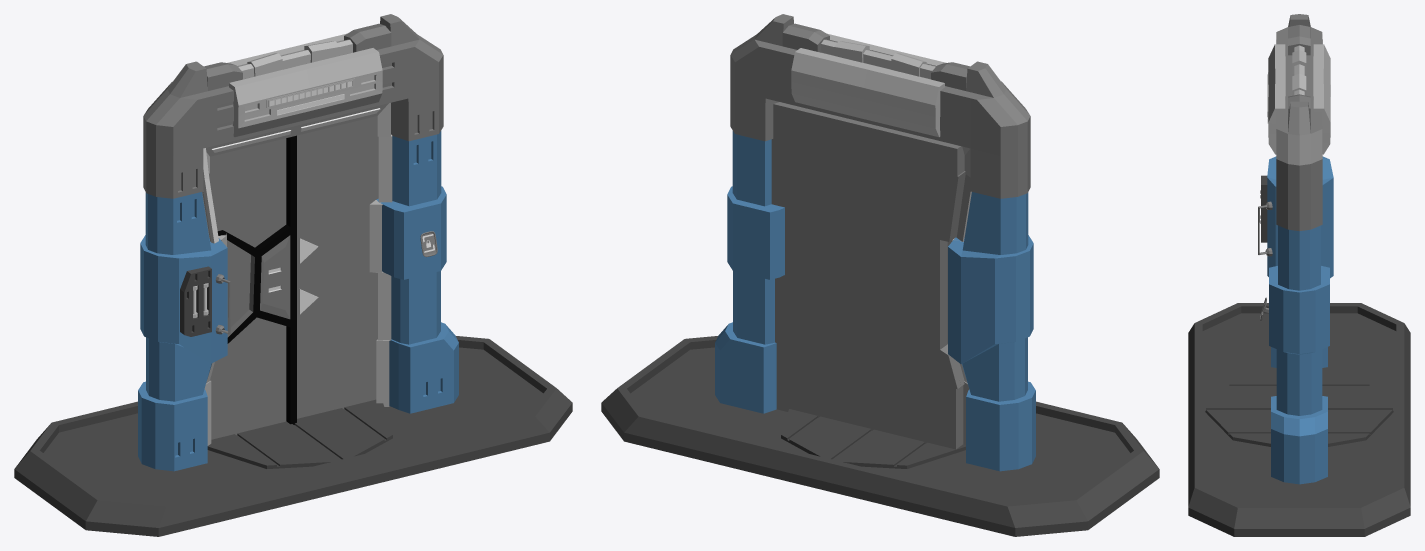
File: door.fbx
3 renders of one model, left to right at view 1: azimuth 30°, elevation 25°; view 2: azimuth 150°, elevation 25°; view 3: azimuth 270°, elevation 25°, orthographic. The views are drawn at different scales.
Parts seen in each view (by area): view 1: Cube.001, Door, Cube, Cube.002, Circle, Cube.009, Cube.012, Cube.020; view 2: Door, Cube.001, Cube, Cube.002, Circle, Cube.009; view 3: Cube, Cube.001, Circle, Cube.002, Cube.012.
Part boxes in pixels (x1,y1,x2,y2): Cube.001: (138,14,458,471); Door: (209,116,378,439); Cube: (14,336,572,536); Cube.002: (227,33,382,136); Circle: (207,399,392,468); Cube.009: (202,103,392,445); Cube.012: (180,266,211,336); Cube.020: (203,148,218,243); Door: (771,102,965,449); Cube.001: (715,14,1035,471); Cube: (601,336,1159,536); Cube.002: (791,33,946,137); Circle: (781,409,965,468); Cube.009: (947,146,971,445); Cube: (1188,303,1410,536); Cube.001: (1267,14,1333,484); Circle: (1205,373,1393,446); Cube.002: (1268,44,1330,154); Cube.012: (1261,175,1267,242).
Bounding box in the file's own units: 873 × 689 × 378.
